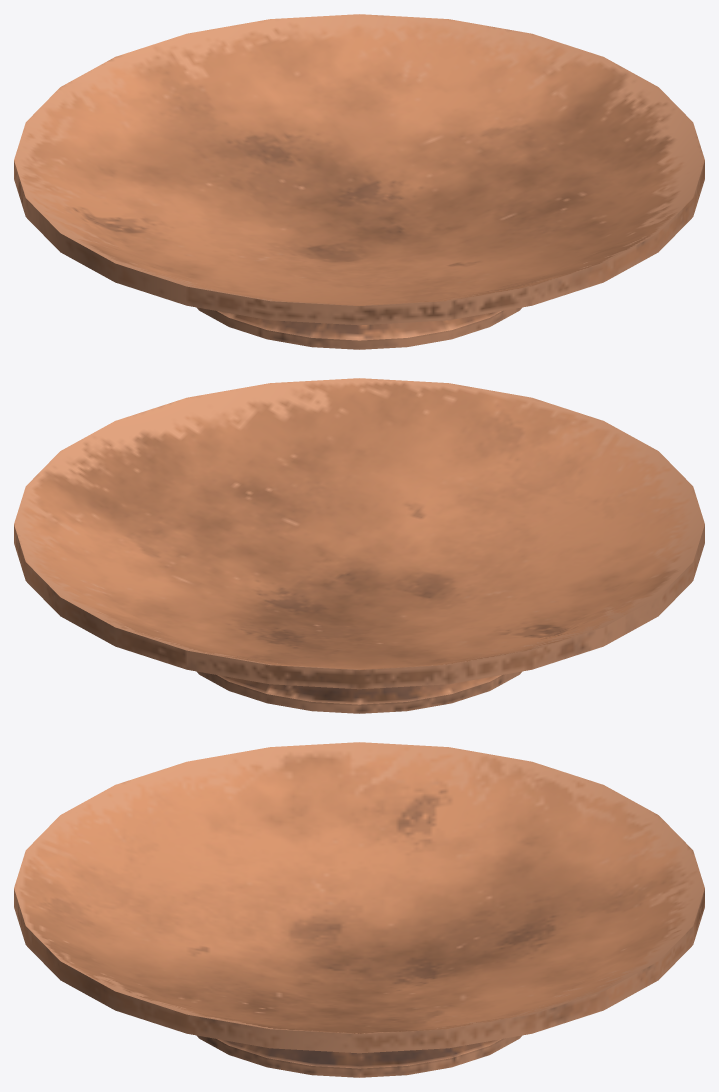
Rendered from SM_CandlePlate2.fbx.
The picture shows the model from 3 angles, top to bottom: view 1: azimuth 30°, elevation 25°; view 2: azimuth 150°, elevation 25°; view 3: azimuth 270°, elevation 25°; orthographic projection.
Parts seen in each view (by area): view 1: SM_CandlePlate2_LOD0; view 2: SM_CandlePlate2_LOD0; view 3: SM_CandlePlate2_LOD0.
Boxes of the visible parts, left/top/right/bottom form: SM_CandlePlate2_LOD0: left=14, top=14, right=704, bottom=349; SM_CandlePlate2_LOD0: left=14, top=378, right=704, bottom=713; SM_CandlePlate2_LOD0: left=14, top=742, right=704, bottom=1077.
Bounding box in the file's own units: 12.39 × 12.39 × 2.21.
Materials: 1 (1 with a texture image).
